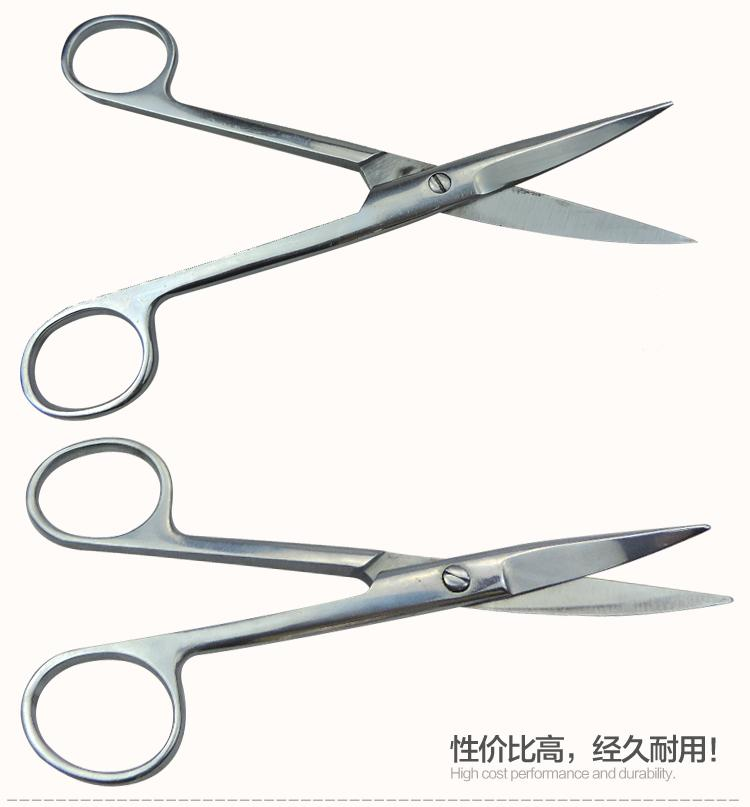scissor: (64, 57, 703, 712)
